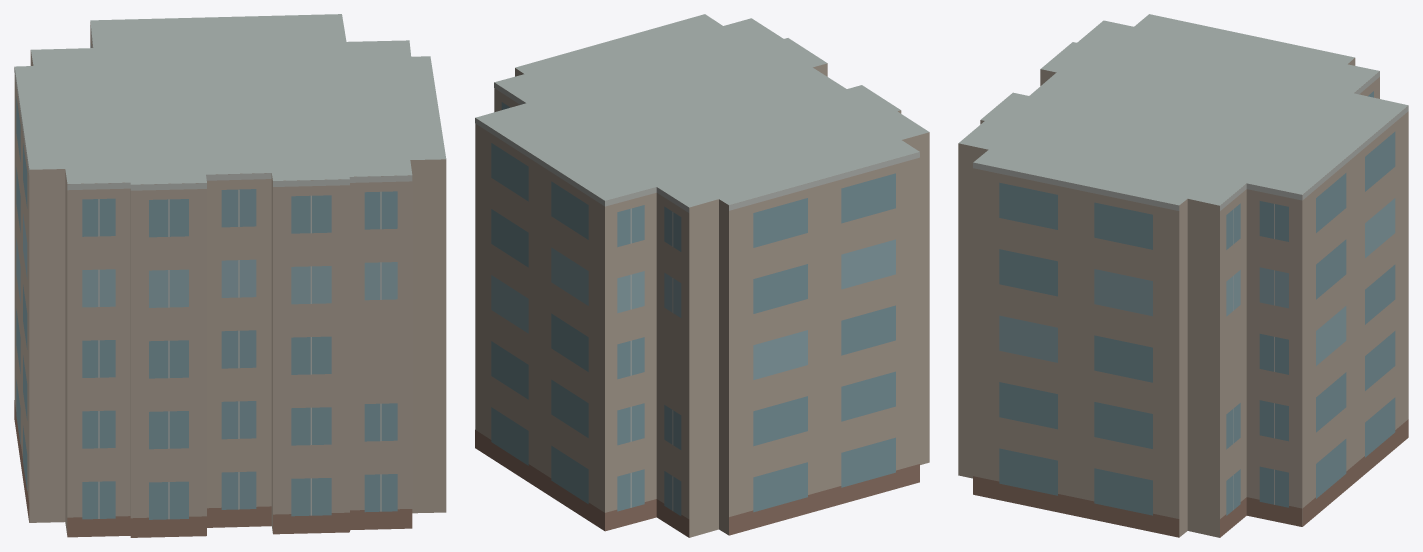
The model's file is survey-upis-32819338.glb.
3 views of the same model, side by side, from view 1: azimuth 30°, elevation 25°; view 2: azimuth 150°, elevation 25°; view 3: azimuth 270°, elevation 25° (orthographic). The views are drawn at different scales.
Visible parts, largest first — view 1: survey-upis-32819338.tmp; view 2: survey-upis-32819338.tmp; view 3: survey-upis-32819338.tmp.
Boxes of the visible parts, x1=… form: survey-upis-32819338.tmp: x1=14, y1=14, x2=446, y2=537; survey-upis-32819338.tmp: x1=475, y1=14, x2=929, y2=537; survey-upis-32819338.tmp: x1=958, y1=14, x2=1408, y2=537.
Size of the model in its own units: 17.58 by 14.2 by 17.45.
